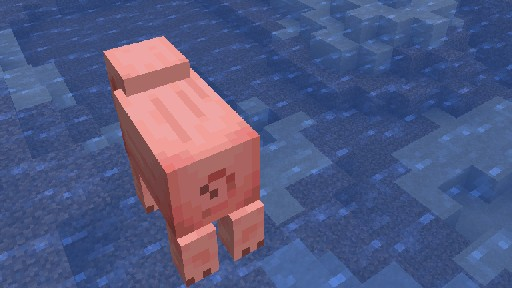pig: (102, 35, 264, 287)
